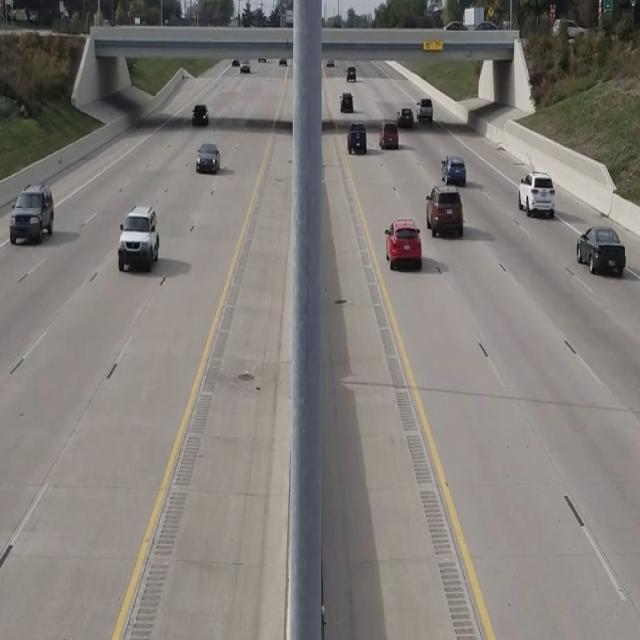car: (9, 182, 54, 244), (118, 206, 159, 270), (576, 225, 626, 277), (384, 218, 422, 269), (518, 171, 555, 218), (195, 142, 219, 174), (347, 122, 366, 154), (192, 104, 208, 125)
